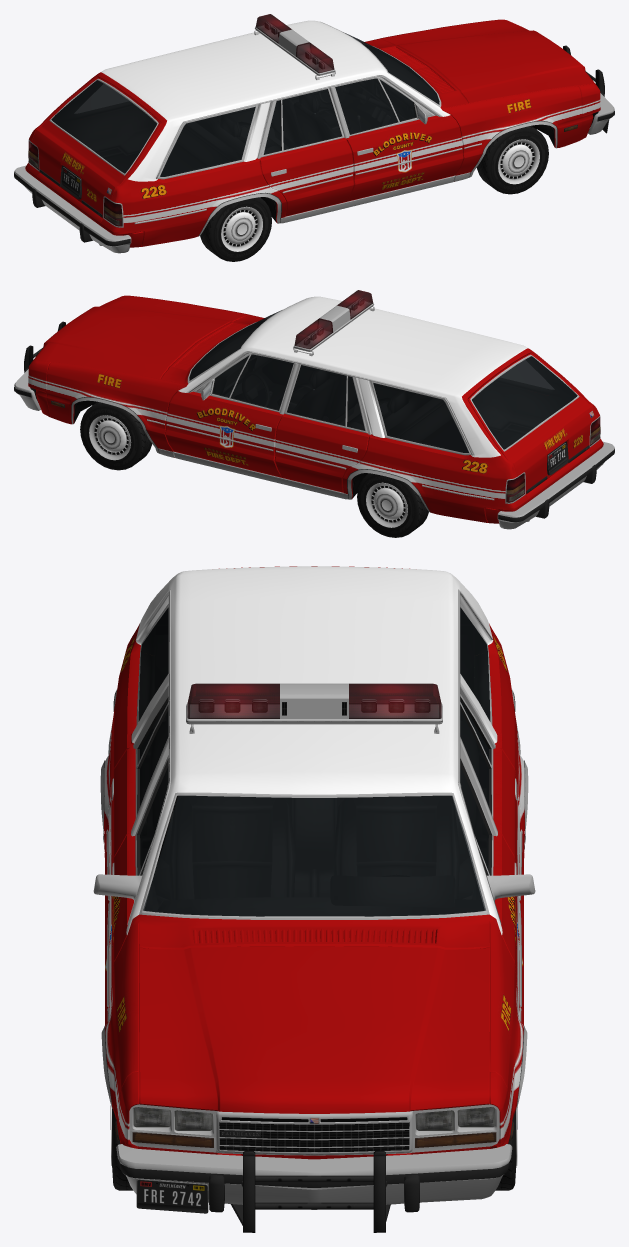
3 renders of one model, top to bottom at view 1: azimuth 30°, elevation 25°; view 2: azimuth 150°, elevation 25°; view 3: azimuth 270°, elevation 25°, orthographic. The views are drawn at different scales.
Visible parts, largest first — view 1: Fairheaven_SW80_body002_Fairheaven_LT80_Bodymat_0, Fairheaven_LT80_Hood005_Fairheaven_LT80_Bodymat_0, Fairheaven_SW80_Interior002_UCB_Interior_Trim_0, Fairheaven_SW80_Glass_Body002_UCB_Lights_and_Glass_Transpere, Fairheaven_SW80_Grand_Trim001_UCB_BOTTOM_GT_0, Fairheaven_LT80_Interior_Trim007_UCB_Interior_Trim_0, Fairheaven_SW80_Glass_Rear002_UCB_Lights_and_Glass_Transpere, Fairheaven_LT80_Trunkdoor002_Fairheaven_LT80_Bodymat_0, Fairheaven_LT80_WheelHubcaps_FR002_RB1c_Tire_1k_0, Fairheaven_LT80_WheelHubcaps_RL002_RB1c_Tire_1k_0, Fairheaven_LT80_Glass_Passanger008_UCB_Lights_and_Glass_Tran, Fairheaven_LT80_bumper_rear005_UCB_BOTTOM_GT_0 (+9 smaller); view 2: Fairheaven_SW80_body002_Fairheaven_LT80_Bodymat_0, Fairheaven_LT80_Hood005_Fairheaven_LT80_Bodymat_0, Fairheaven_SW80_Interior002_UCB_Interior_Trim_0, Fairheaven_SW80_Glass_Body002_UCB_Lights_and_Glass_Transpere, Fairheaven_SW80_Grand_Trim001_UCB_BOTTOM_GT_0, Fairheaven_LT80_Interior_Trim007_UCB_Interior_Trim_0, Fairheaven_SW80_Glass_Rear002_UCB_Lights_and_Glass_Transpere, Fairheaven_LT80_Trunkdoor002_Fairheaven_LT80_Bodymat_0, Fairheaven_LT80_WheelHubcaps_FL002_RB1c_Tire_1k_0, Fairheaven_LT80_WheelHubcaps_RR002_RB1c_Tire_1k_0, Fairheaven_LT80_Glass_Driver008_UCB_Lights_and_Glass_Transpe, Fairheaven_LT80_bumper_rear005_UCB_BOTTOM_GT_0 (+10 smaller); view 3: Fairheaven_SW80_body002_Fairheaven_LT80_Bodymat_0, Fairheaven_LT80_Hood005_Fairheaven_LT80_Bodymat_0, Fairheaven_LT80_Interior_Trim007_UCB_Interior_Trim_0, Fairheaven_LT80_Windshield007_UCB_Lights_and_Glass_Transpere, Fairheaven_LT80_Bumper_Front005_UCB_BOTTOM_GT_0, Fairheaven_SW80_Grand_Trim001_UCB_BOTTOM_GT_0, Fairheaven_LT80_Front_Plate_Inner005_UCB_BOTTOM_GT_0, Fairheaven_LT80_LightbarEMS_UCB_BOTTOM_GT_0, Fairheaven_LT80_LightbarEMS_UCB_Lights_and_Glass_Transperent, Fairheaven_SW80_Glass_Body002_UCB_Lights_and_Glass_Transpere, Fairheaven_SW80_Interior002_UCB_Interior_Trim_0, Fairheaven_LT80_Headlights_Glass005_UCB_Lights_and_Glass_Tra (+6 smaller).
Part boxes in pixels (x1,y1,x2,y2): Fairheaven_SW80_body002_Fairheaven_LT80_Bodymat_0: (25, 20, 582, 247); Fairheaven_LT80_Hood005_Fairheaven_LT80_Bodymat_0: (381, 20, 596, 103); Fairheaven_SW80_Interior002_UCB_Interior_Trim_0: (52, 44, 438, 176); Fairheaven_SW80_Glass_Body002_UCB_Lights_and_Glass_Transpere: (75, 84, 341, 176); Fairheaven_SW80_Grand_Trim001_UCB_BOTTOM_GT_0: (28, 21, 557, 236); Fairheaven_LT80_Interior_Trim007_UCB_Interior_Trim_0: (195, 48, 439, 154); Fairheaven_SW80_Glass_Rear002_UCB_Lights_and_Glass_Transpere: (51, 80, 156, 173); Fairheaven_LT80_Trunkdoor002_Fairheaven_LT80_Bodymat_0: (32, 77, 161, 218); Fairheaven_LT80_WheelHubcaps_FR002_RB1c_Tire_1k_0: (476, 125, 548, 194); Fairheaven_LT80_WheelHubcaps_RL002_RB1c_Tire_1k_0: (200, 197, 271, 261); Fairheaven_LT80_Glass_Passanger008_UCB_Lights_and_Glass_Tran: (335, 78, 415, 133); Fairheaven_LT80_bumper_rear005_UCB_BOTTOM_GT_0: (14, 165, 131, 253); Fairheaven_SW80_body002_Fairheaven_LT80_Bodymat_0: (46, 296, 603, 523); Fairheaven_LT80_Hood005_Fairheaven_LT80_Bodymat_0: (33, 296, 247, 379); Fairheaven_SW80_Interior002_UCB_Interior_Trim_0: (191, 320, 576, 452); Fairheaven_SW80_Glass_Body002_UCB_Lights_and_Glass_Transpere: (287, 360, 553, 452); Fairheaven_SW80_Grand_Trim001_UCB_BOTTOM_GT_0: (71, 298, 600, 512); Fairheaven_LT80_Interior_Trim007_UCB_Interior_Trim_0: (189, 327, 433, 430); Fairheaven_SW80_Glass_Rear002_UCB_Lights_and_Glass_Transpere: (472, 356, 577, 449); Fairheaven_LT80_Trunkdoor002_Fairheaven_LT80_Bodymat_0: (467, 353, 596, 494); Fairheaven_LT80_WheelHubcaps_FL002_RB1c_Tire_1k_0: (80, 402, 152, 470); Fairheaven_LT80_WheelHubcaps_RR002_RB1c_Tire_1k_0: (357, 473, 428, 537); Fairheaven_LT80_Glass_Driver008_UCB_Lights_and_Glass_Transpe: (213, 354, 293, 409); Fairheaven_LT80_bumper_rear005_UCB_BOTTOM_GT_0: (497, 441, 614, 529); Fairheaven_SW80_body002_Fairheaven_LT80_Bodymat_0: (104, 566, 524, 1135); Fairheaven_LT80_Hood005_Fairheaven_LT80_Bodymat_0: (139, 946, 489, 1113); Fairheaven_LT80_Interior_Trim007_UCB_Interior_Trim_0: (142, 721, 486, 916); Fairheaven_LT80_Windshield007_UCB_Lights_and_Glass_Transpere: (143, 795, 485, 916); Fairheaven_LT80_Bumper_Front005_UCB_BOTTOM_GT_0: (116, 1144, 512, 1212); Fairheaven_SW80_Grand_Trim001_UCB_BOTTOM_GT_0: (93, 590, 535, 1108); Fairheaven_LT80_Front_Plate_Inner005_UCB_BOTTOM_GT_0: (129, 1104, 499, 1155); Fairheaven_LT80_LightbarEMS_UCB_BOTTOM_GT_0: (186, 683, 442, 733); Fairheaven_LT80_LightbarEMS_UCB_Lights_and_Glass_Transperent: (187, 683, 441, 718); Fairheaven_SW80_Glass_Body002_UCB_Lights_and_Glass_Transpere: (138, 607, 490, 806); Fairheaven_SW80_Interior002_UCB_Interior_Trim_0: (139, 625, 489, 912); Fairheaven_LT80_Headlights_Glass005_UCB_Lights_and_Glass_Tra: (132, 1107, 496, 1147).
Size of the model in its own units: 5.07 by 1.49 by 1.83.
Materials: 8 (8 with a texture image).
